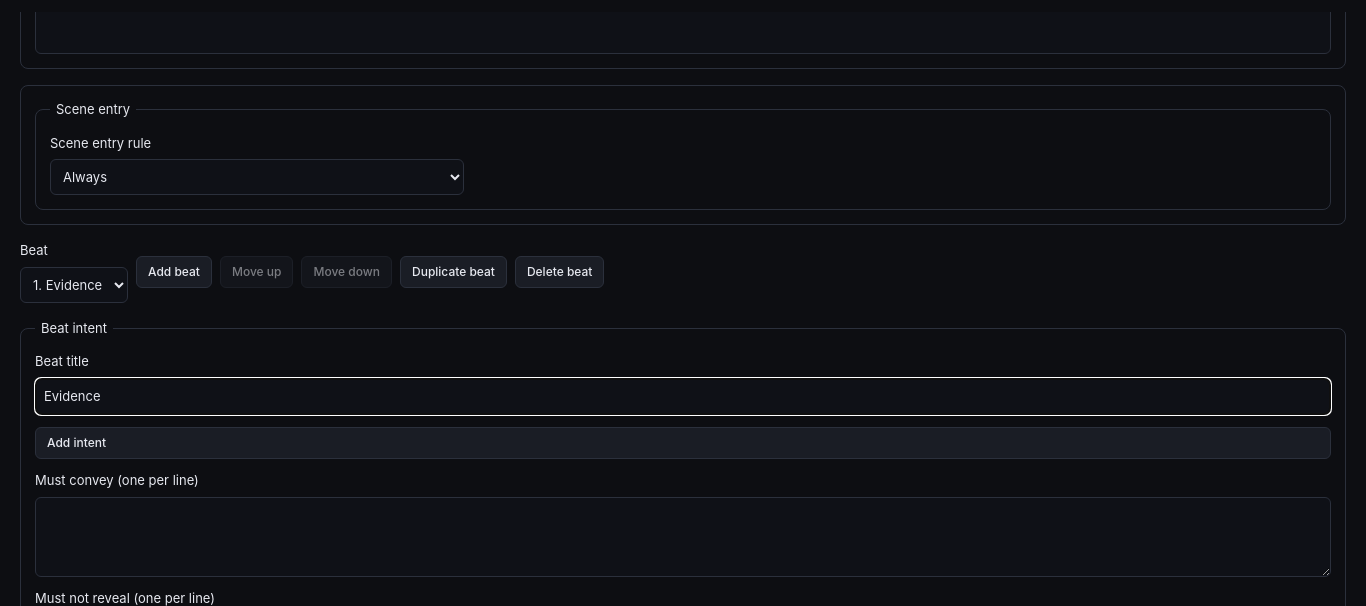
checks the unsaved script and focuses a broken destination by stable ID
Replace the text in the field labelled "Beat title" with "Unsaved title": (683, 396) [35,378,1331,415]
(page scrolled)
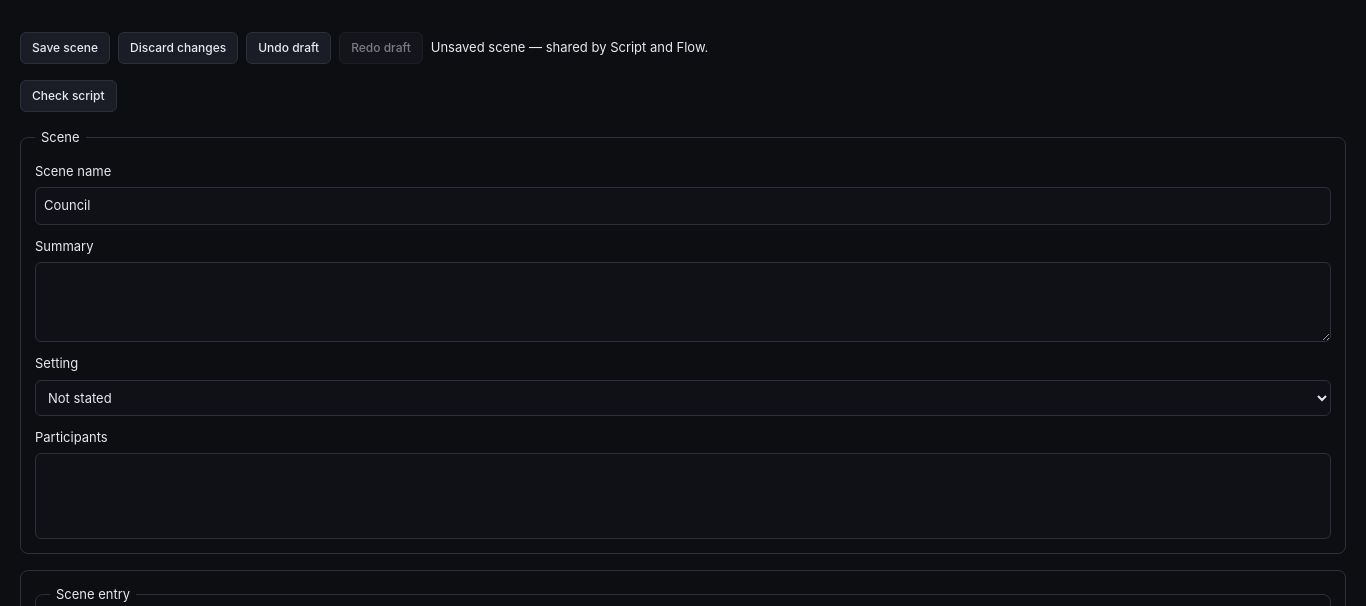
Click the button "Check script": (68, 96) [20,80,117,112]
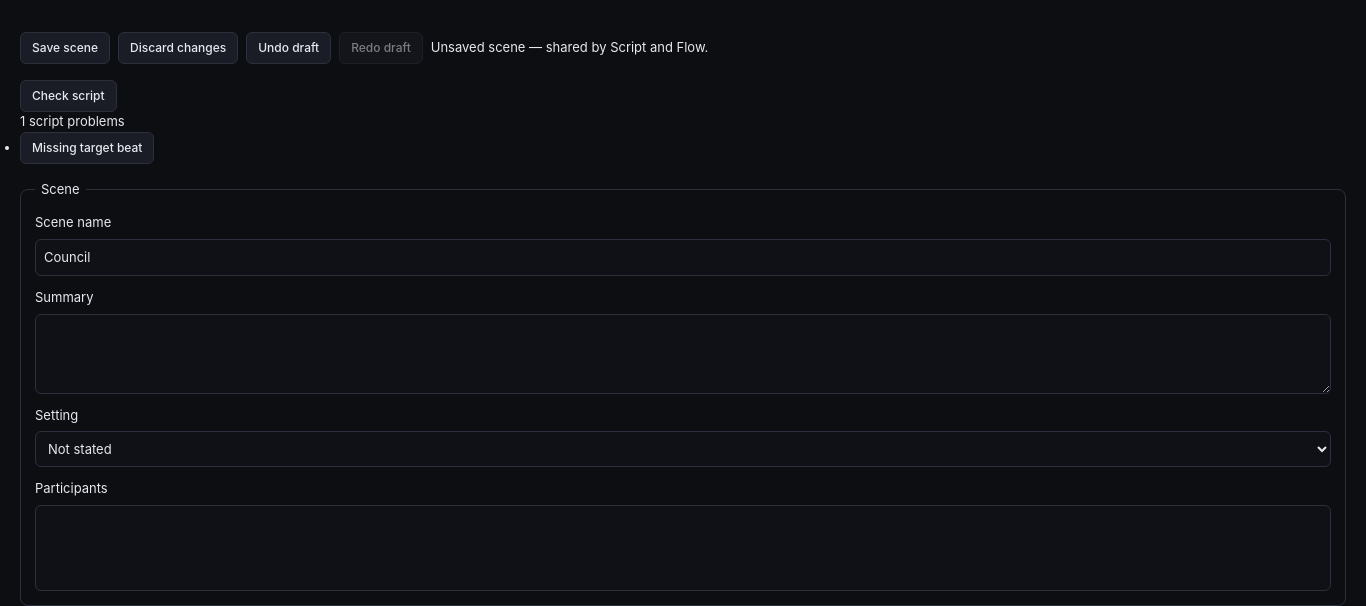
Click the button "Missing target beat": (87, 148) [20,132,154,164]
(page scrolled)
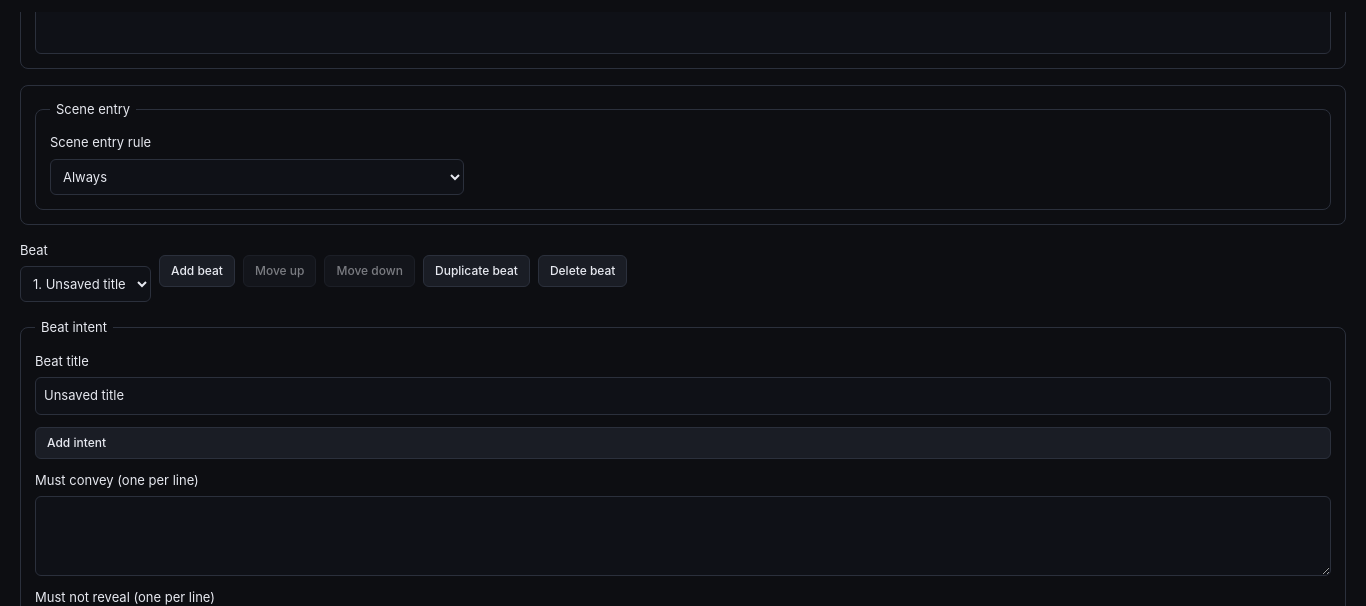
Replace the text in the field labelled "Beat title" with "Updated title": (683, 396) [35,377,1331,414]
(page scrolled)
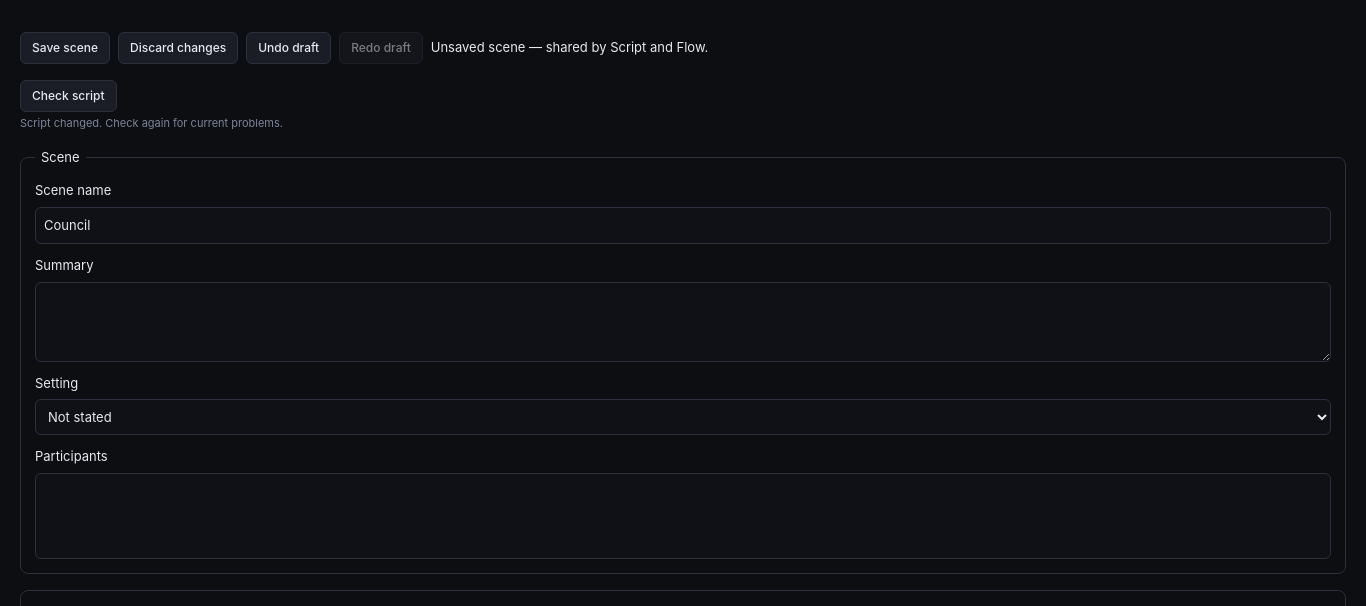
Expected: the text "Script changed. Check again for current problems." is shown, [20,116,283,130]
